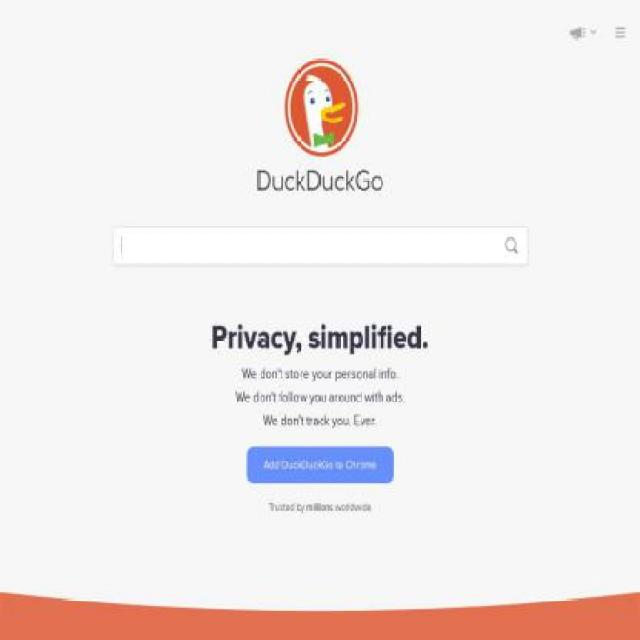button: (246, 445, 394, 484), (609, 19, 631, 47)
field: (120, 227, 492, 265), (494, 227, 528, 265)
